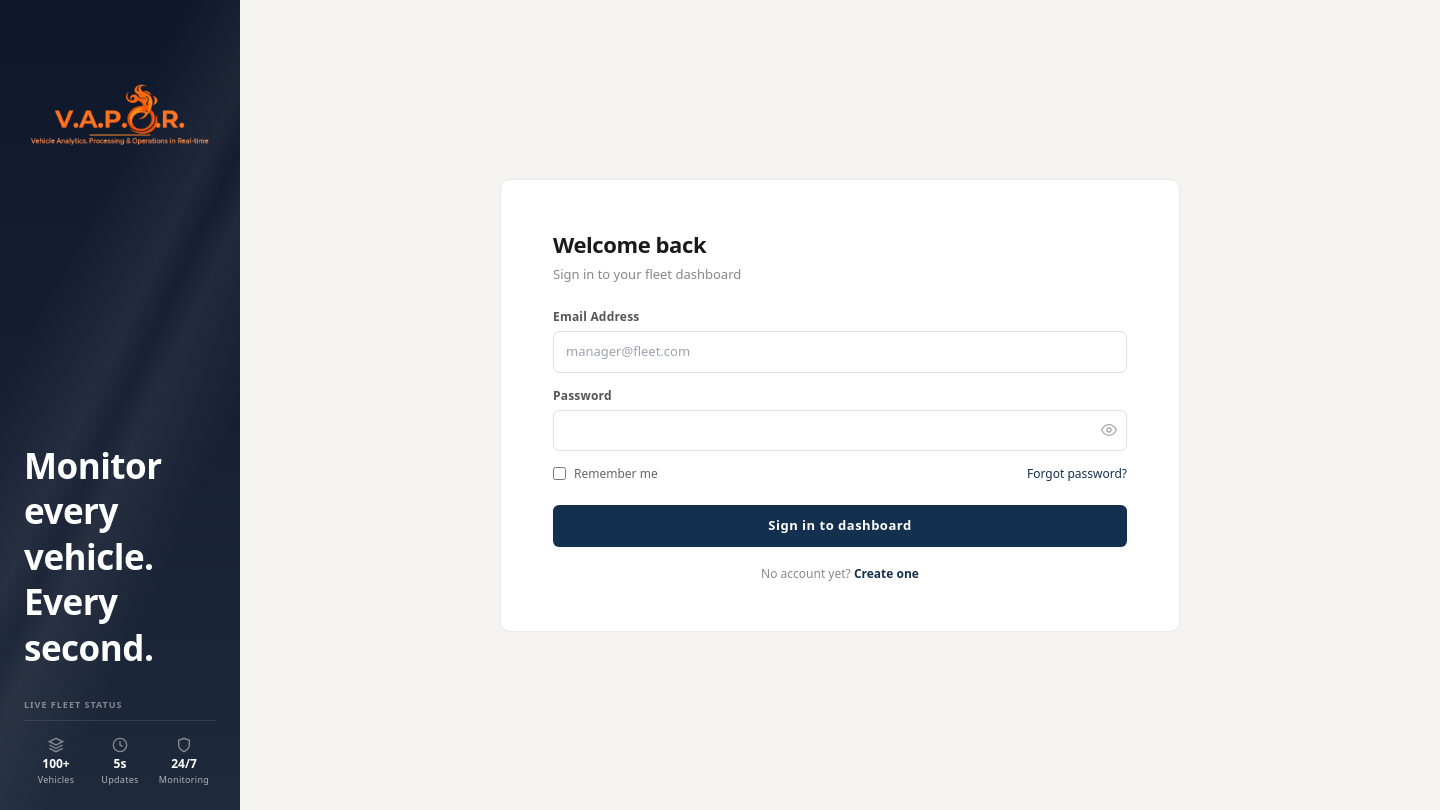
Test: Login Component › shows an error when login fails
The width and height of the screenshot is (1440, 810).
Type "test@test.com" into the field with placeholder "manager@fleet.com" at coordinates (840, 352), box [553,331,1127,372]
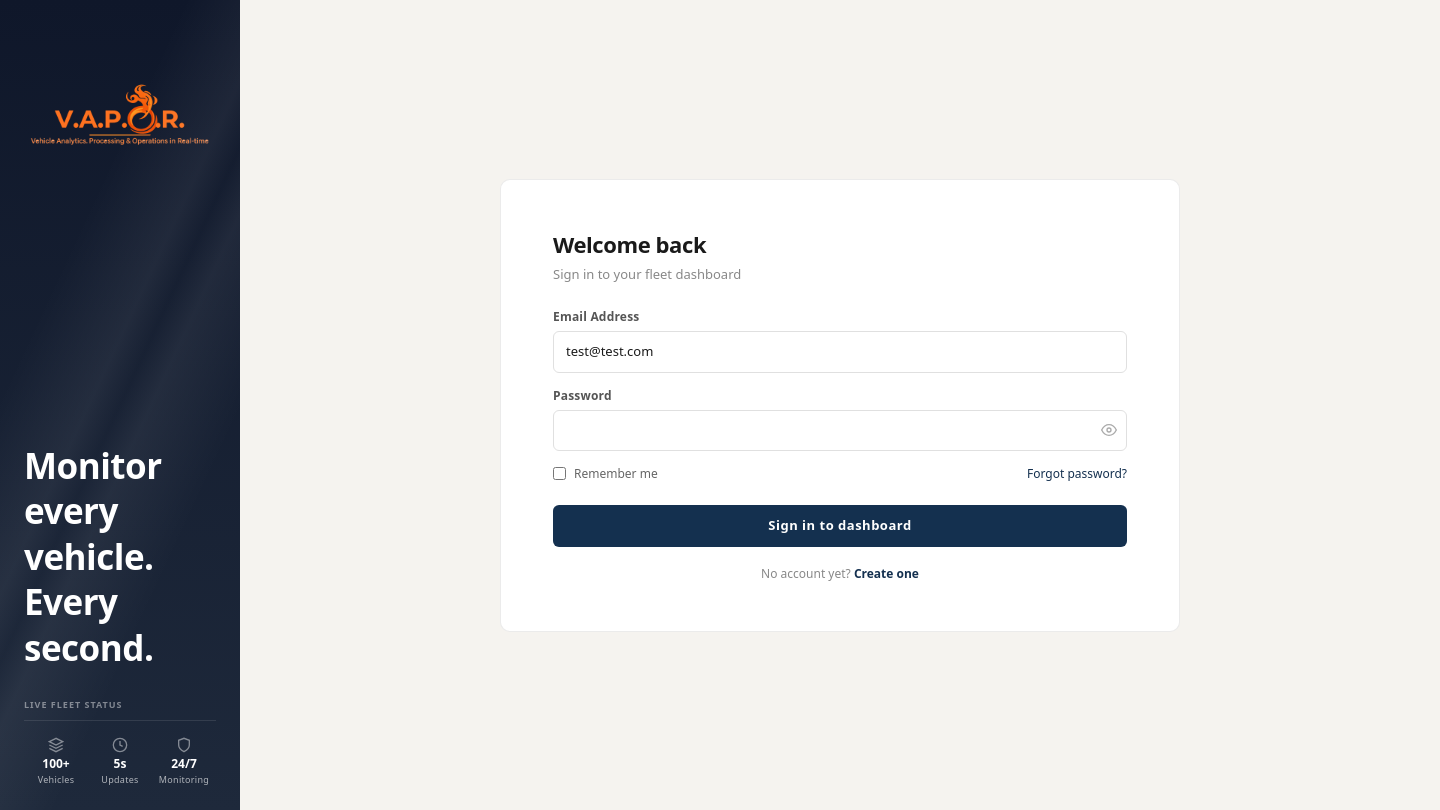
Type "password123" into the password field labelled "Password" at coordinates (840, 430), box [553,410,1127,451]
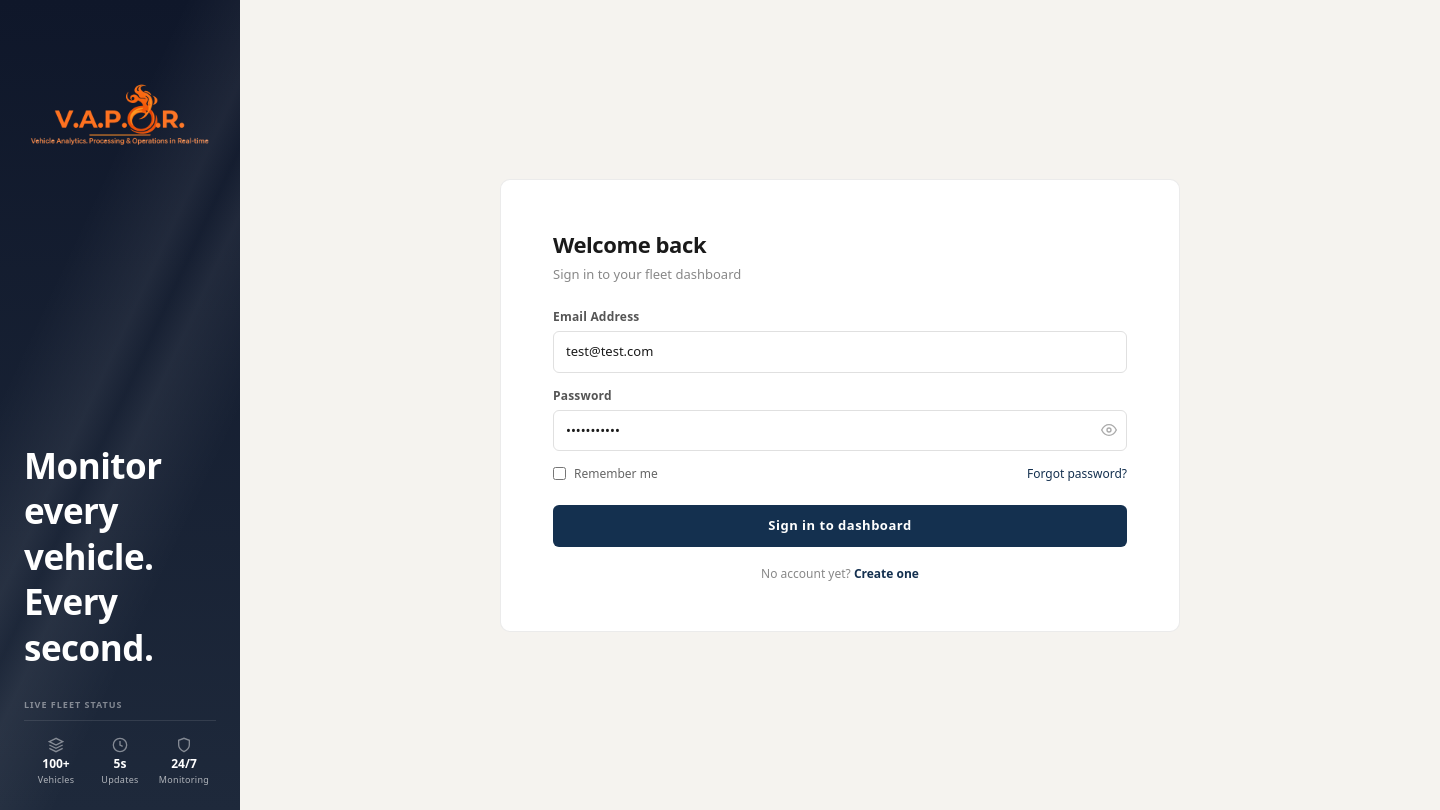
Click the button "Sign in to dashboard" at coordinates (840, 526), box [553,505,1127,546]
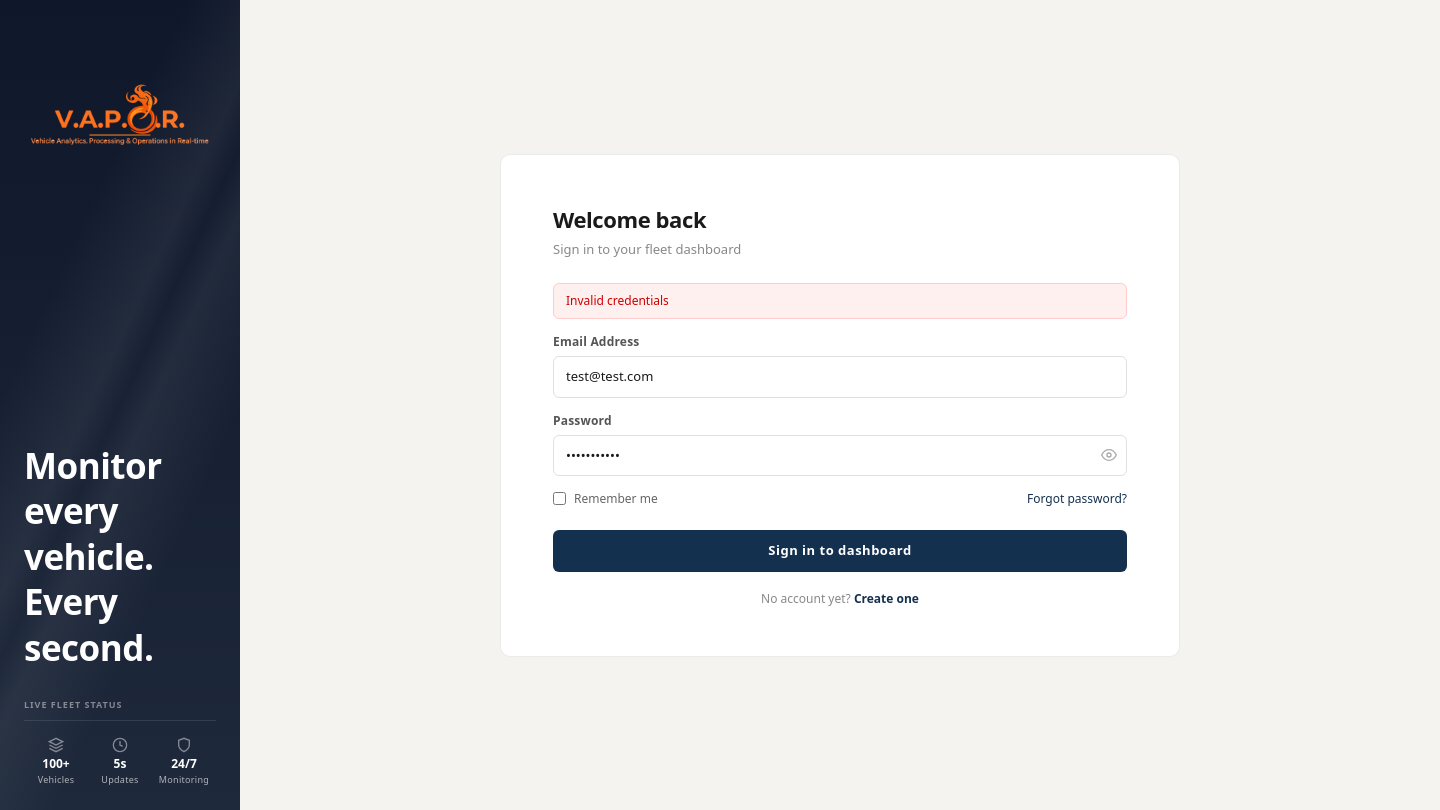
Check: the text "Invalid credentials" is shown, box [553,283,1127,319]
